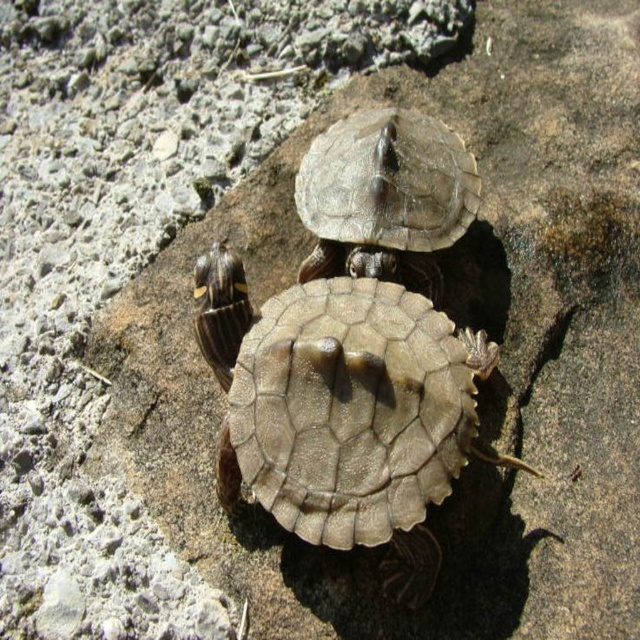Tortoise: (193, 244, 545, 608), (294, 105, 481, 309)
